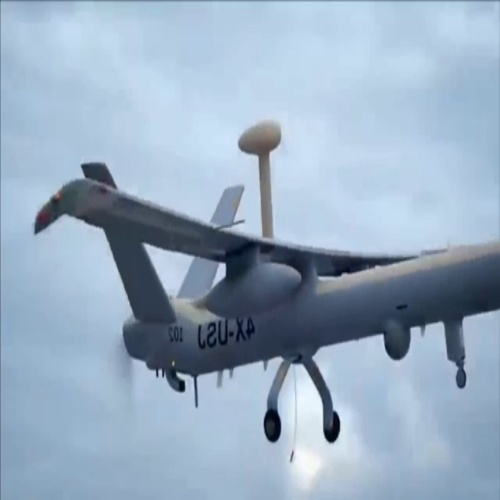uav759: (30, 120, 500, 442)
